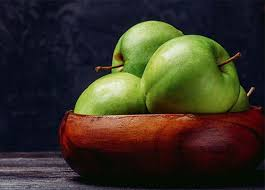apple: (148, 43, 242, 119), (105, 21, 185, 78), (75, 71, 144, 119)
